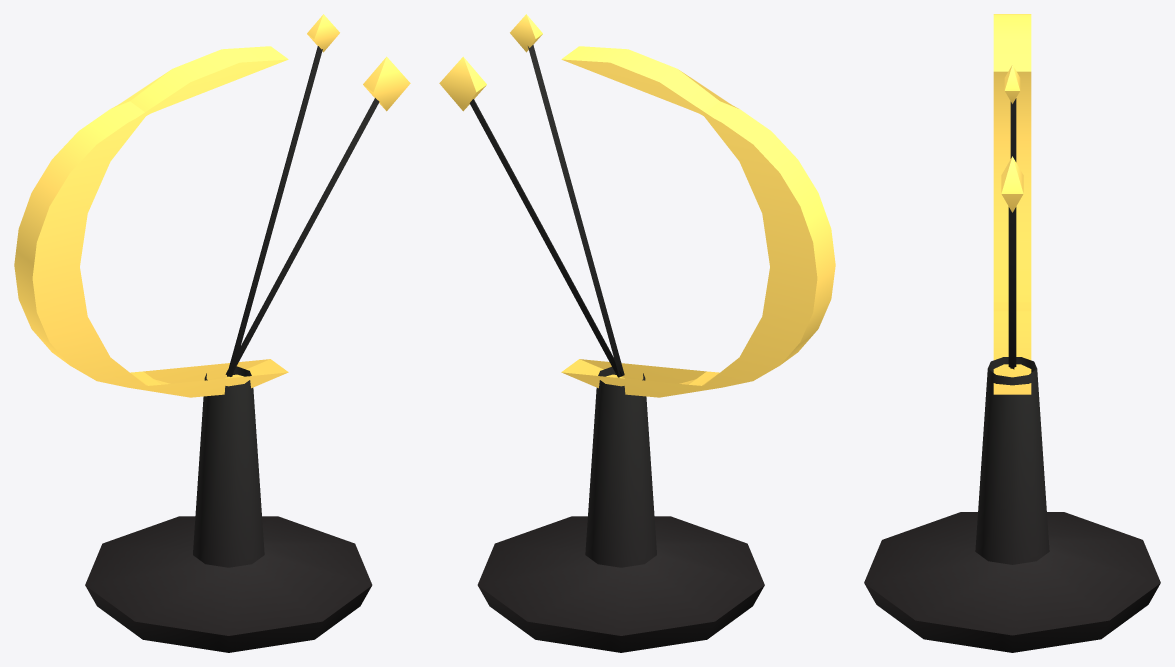
File: cave_moon.glb
The picture shows the model from 3 angles, left to right: view 1: azimuth 30°, elevation 25°; view 2: azimuth 150°, elevation 25°; view 3: azimuth 270°, elevation 25°; orthographic projection. The views are drawn at different scales.
Parts seen in each view (by area): view 1: cave_moon, cave_moon_glow; view 2: cave_moon, cave_moon_glow; view 3: cave_moon, cave_moon_glow.
Part boxes in pixels (x1,y1,x2,y2): cave_moon: (85,46,379,652); cave_moon_glow: (14,14,410,397); cave_moon: (469,45,764,652); cave_moon_glow: (439,14,835,397); cave_moon: (864,98,1160,652); cave_moon_glow: (993,14,1031,394).
Bounding box in the file's own units: 0.7254 × 1.01 × 0.4727.
